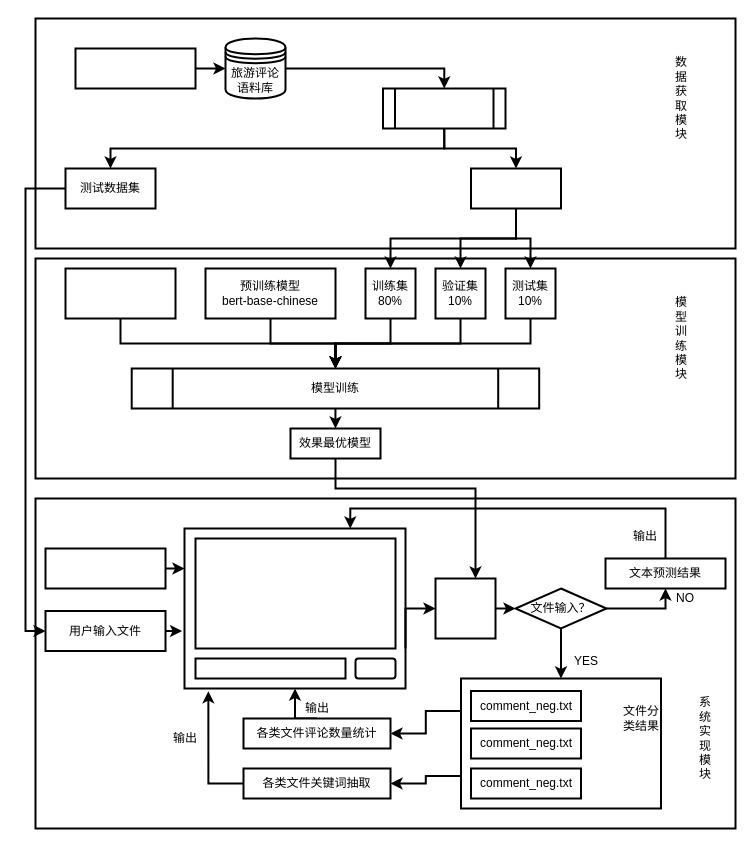
Some shapes in this 753 by 846 pixel diagram are drawn without their labels. Each missing label, with the centre of its shape:
selenium爬虫: point 135,68
数据预处理: point 444,108
模型: point 465,608
用户输入文本: point 105,568
系统UI模块: point 295,593
训练数据集: point 516,188
输入: point 375,668
预训练模型词表及配置文件: point 120,293
